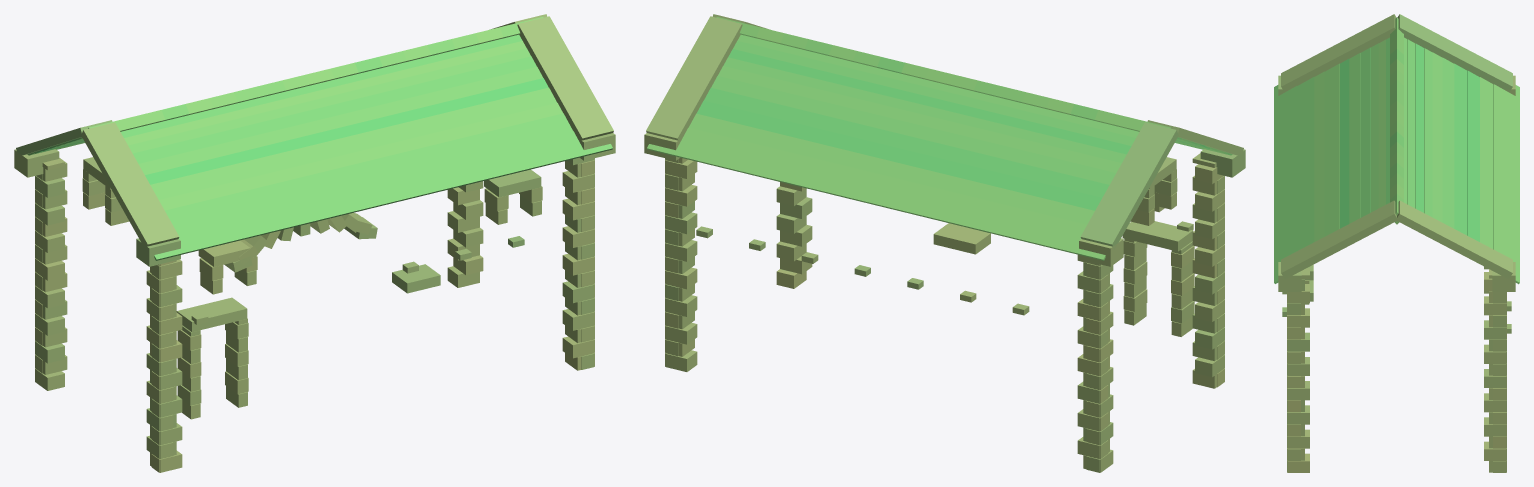
The model's file is SM_Bld_155_Stone.glb.
3 views of the same model, side by side, from view 1: azimuth 30°, elevation 25°; view 2: azimuth 150°, elevation 25°; view 3: azimuth 270°, elevation 25° (orthographic). The views are drawn at different scales.
Visible parts, largest first — view 1: SM_Bld_155_Stone; view 2: SM_Bld_155_Stone; view 3: SM_Bld_155_Stone.
Part boxes in pixels (left/top/right/bottom): SM_Bld_155_Stone: left=14, top=14, right=615, bottom=472; SM_Bld_155_Stone: left=644, top=14, right=1245, bottom=472; SM_Bld_155_Stone: left=1274, top=14, right=1519, bottom=472.
Size of the model in its own units: 10.61 by 6.57 by 5.51.
